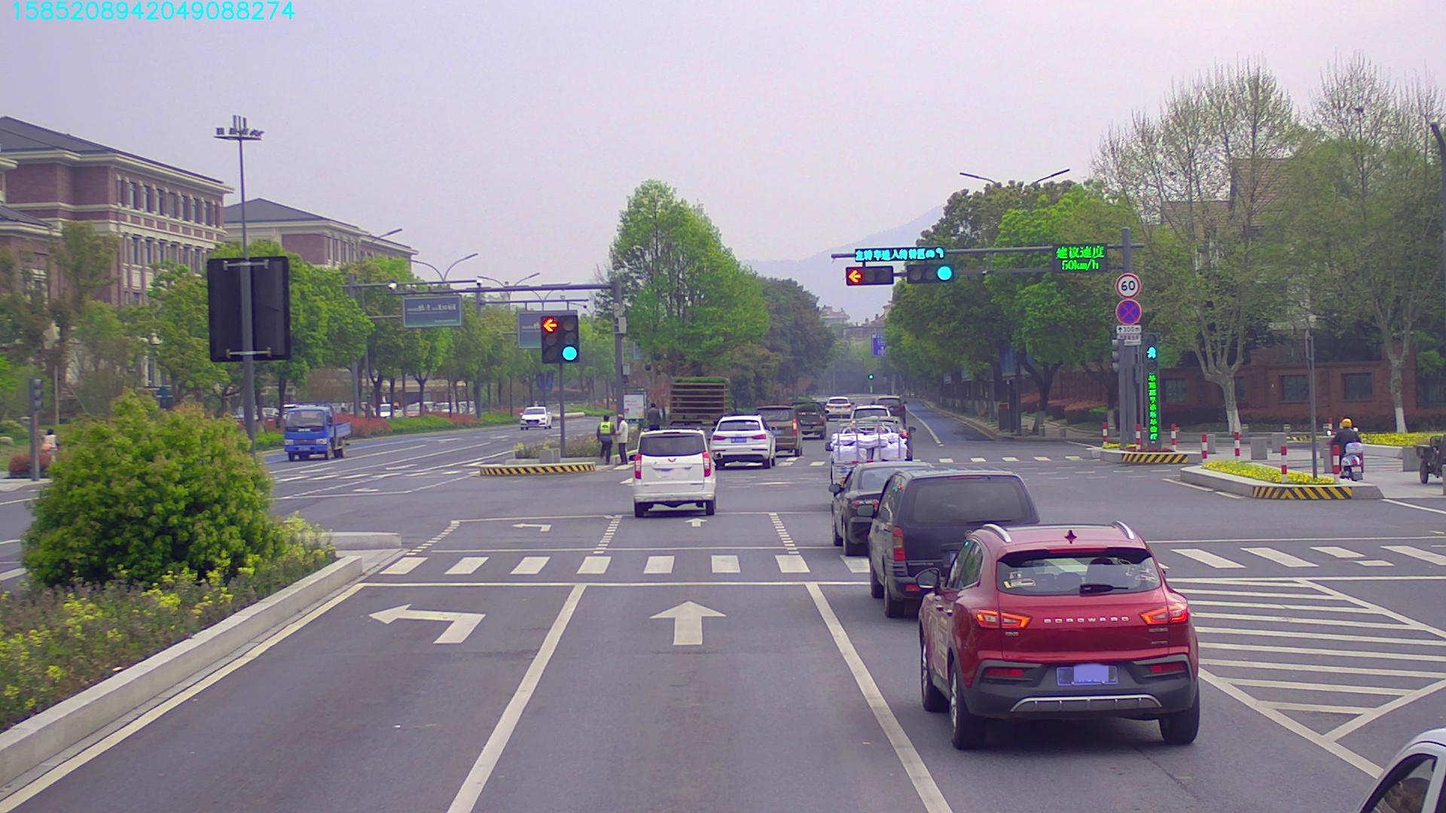green: (911, 260, 957, 280)
red: (841, 264, 893, 282)
wait_on: (855, 247, 947, 257)
